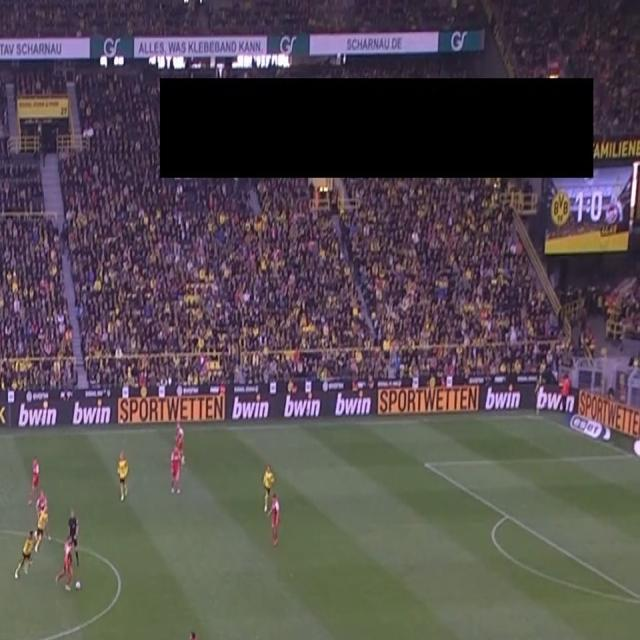ball: (74, 580, 82, 590)
